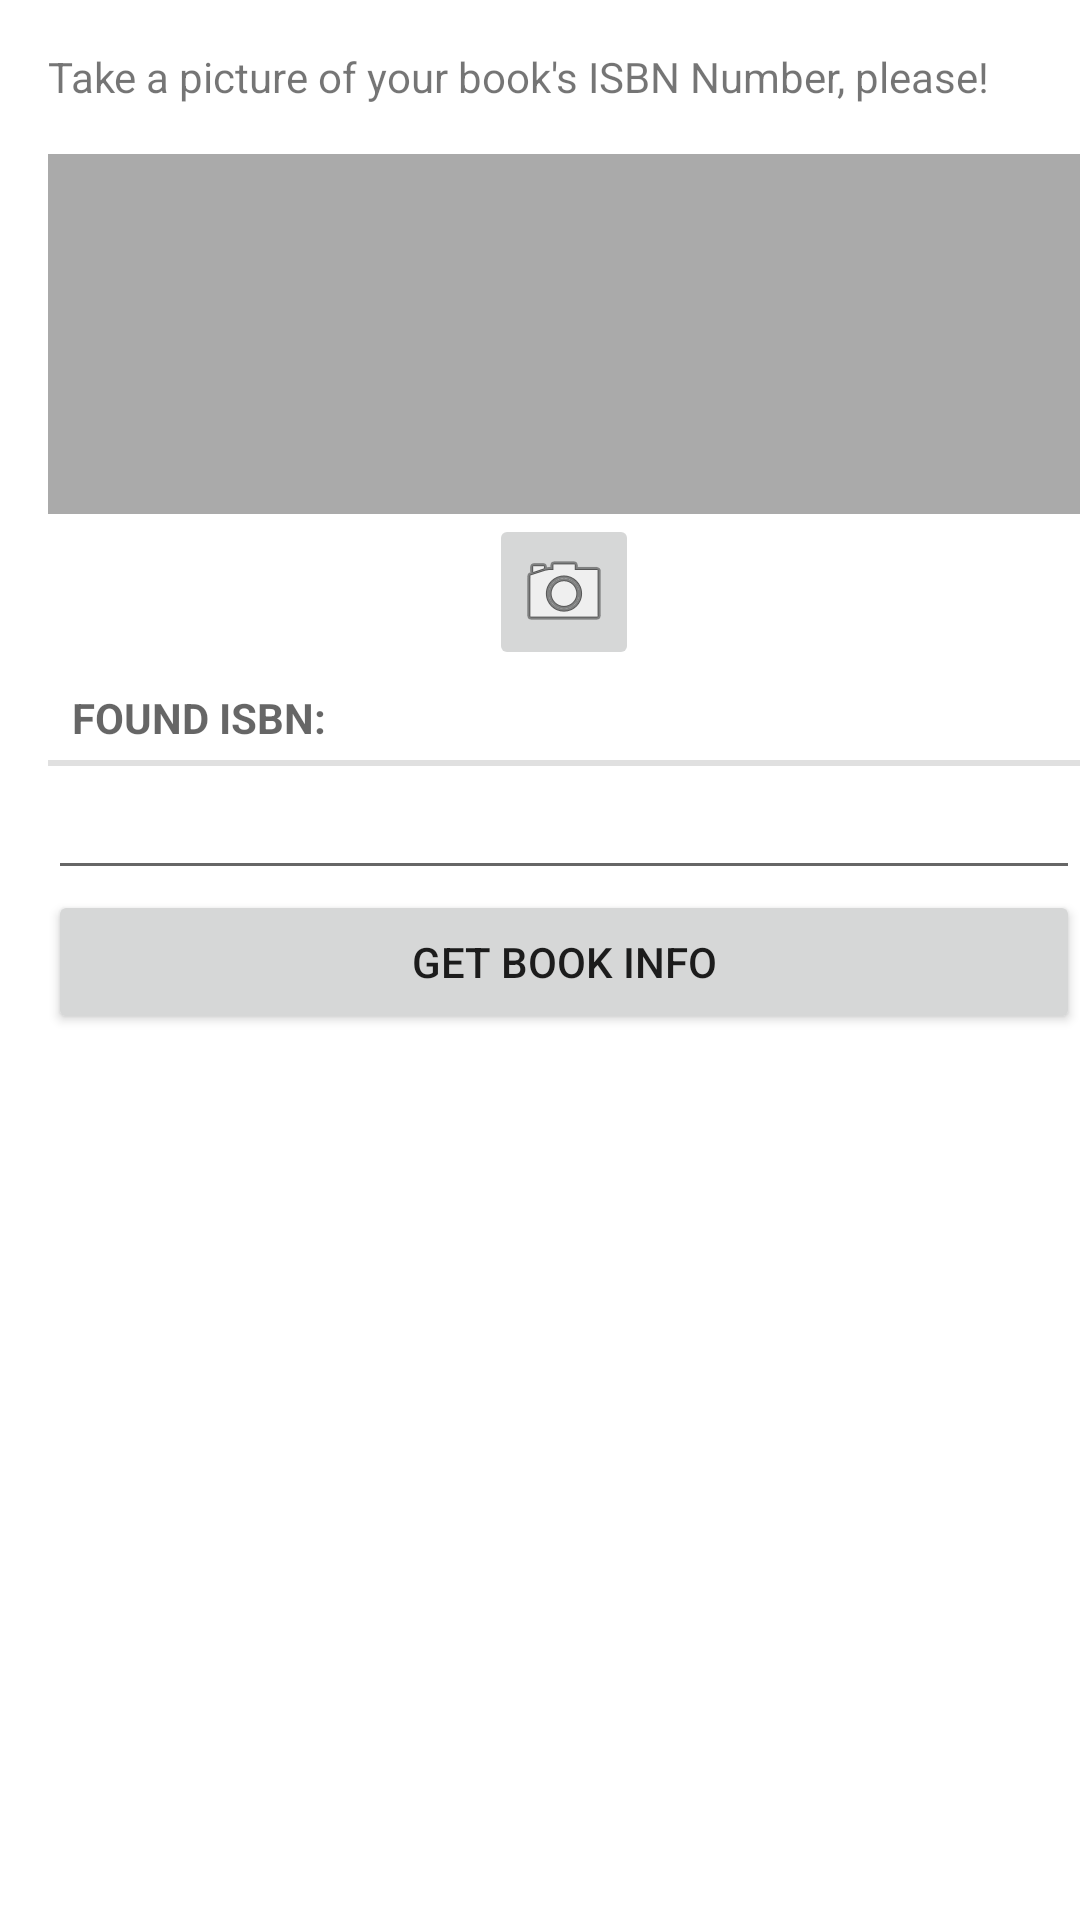

Icon click points for this 1080 × 1920 phone screenshot, format [x,y]:
camera: [564,592]
